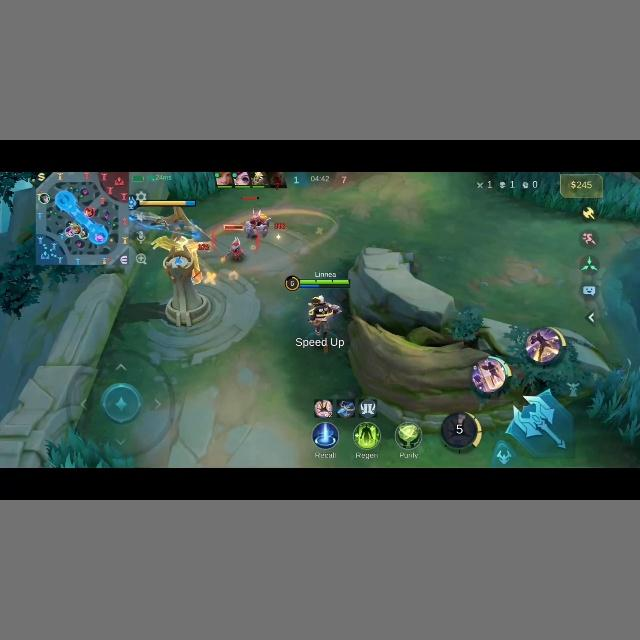hp_enemy: (240, 196, 259, 200)
hp_self: (135, 199, 196, 207), (302, 278, 349, 285)
minion_enemy: (243, 209, 271, 239), (224, 236, 245, 262)
turret_ally: (152, 233, 211, 326)
